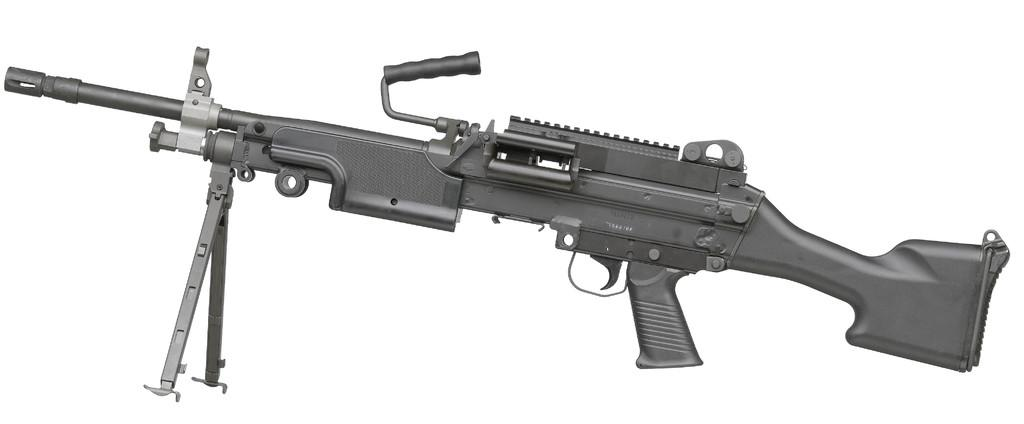Rifle: (3, 46, 1010, 402)
